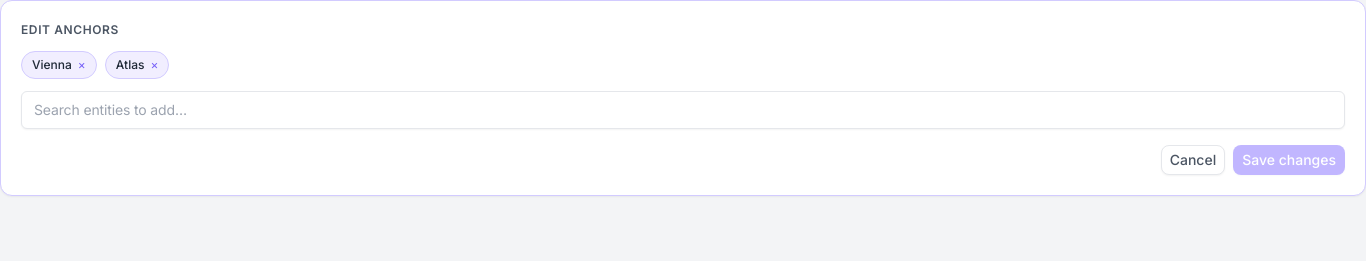
Test: StorylineAnchorEditor › shows a search error message when the entity search fails
This screenshot has width=1366, height=261.
Type "x" into the search field with test id "anchor-editor-search" at (683, 110), box left=21, top=91, right=1345, bottom=129
Wait 260 ms
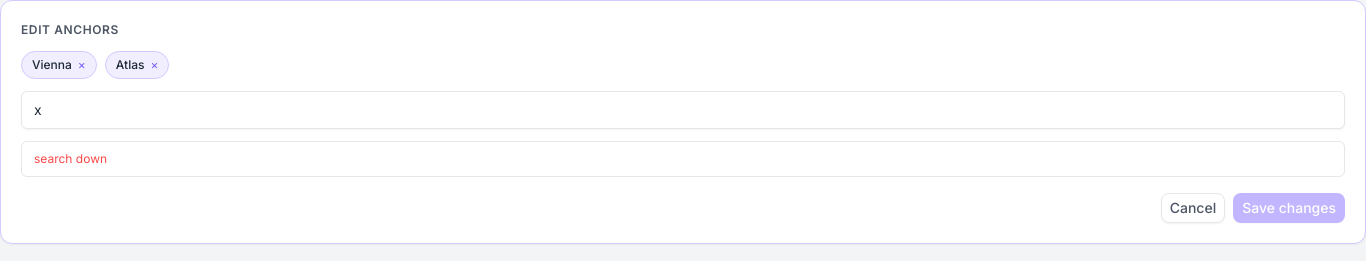
Result: the text with test id "anchor-editor-search-error" reads "search down" at left=34, top=151, right=107, bottom=166
